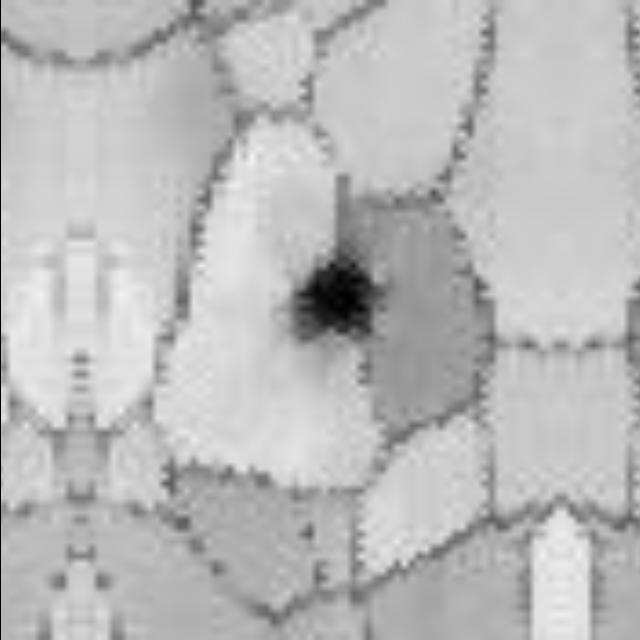good_void: (275, 231, 387, 356), (298, 521, 320, 549)
